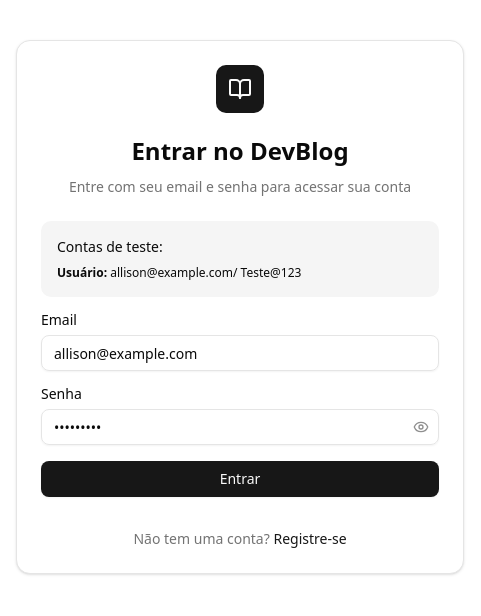
Test: LoginPage › comportamento › deve mostrar erro ao enviar formulário vazio
The image size is (481, 616).
Clear the field labelled "Email" at {"x": 240, "y": 353}, box [41,335,439,371]
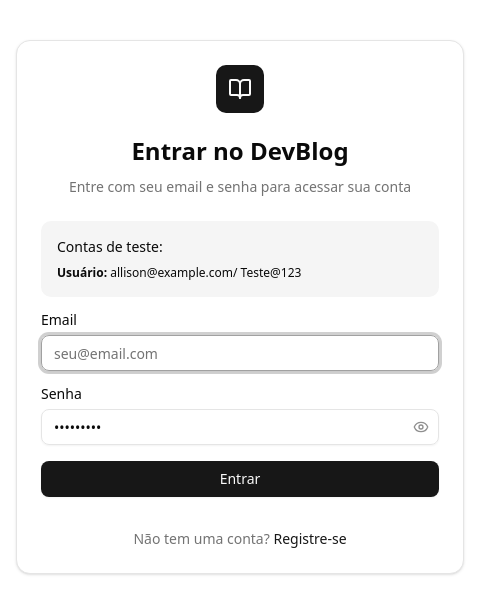
Clear the password field labelled "Senha" at {"x": 240, "y": 427}, box [41,409,439,445]
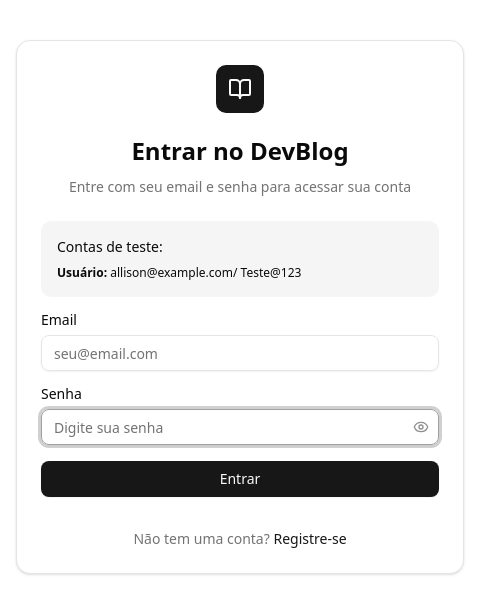
Click the button "Entrar".
click(240, 479)  # box [41,461,439,497]
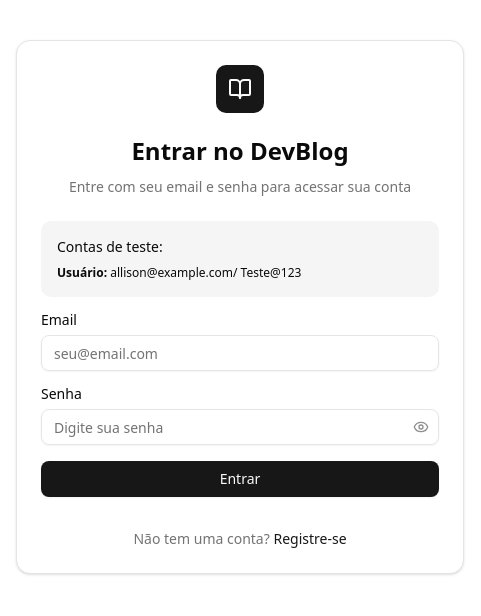
Clear the password field labelled "Senha" at {"x": 240, "y": 427}, box [41,409,439,445]
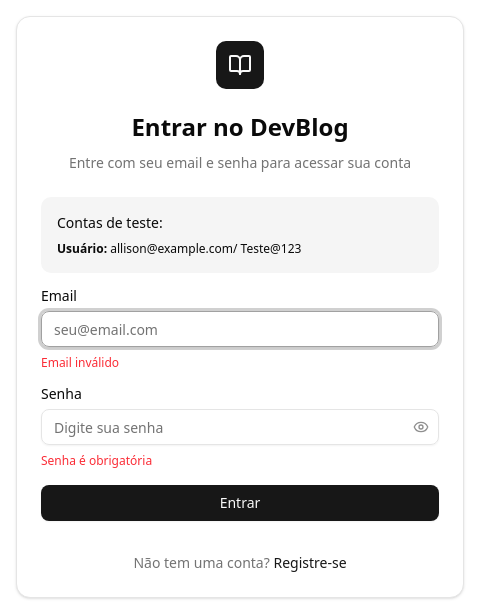
expect the text "Email inválido" is shown: met, box [41,354,119,371]
expect the text "Senha é obrigatória" is shown: met, box [41,452,152,469]
